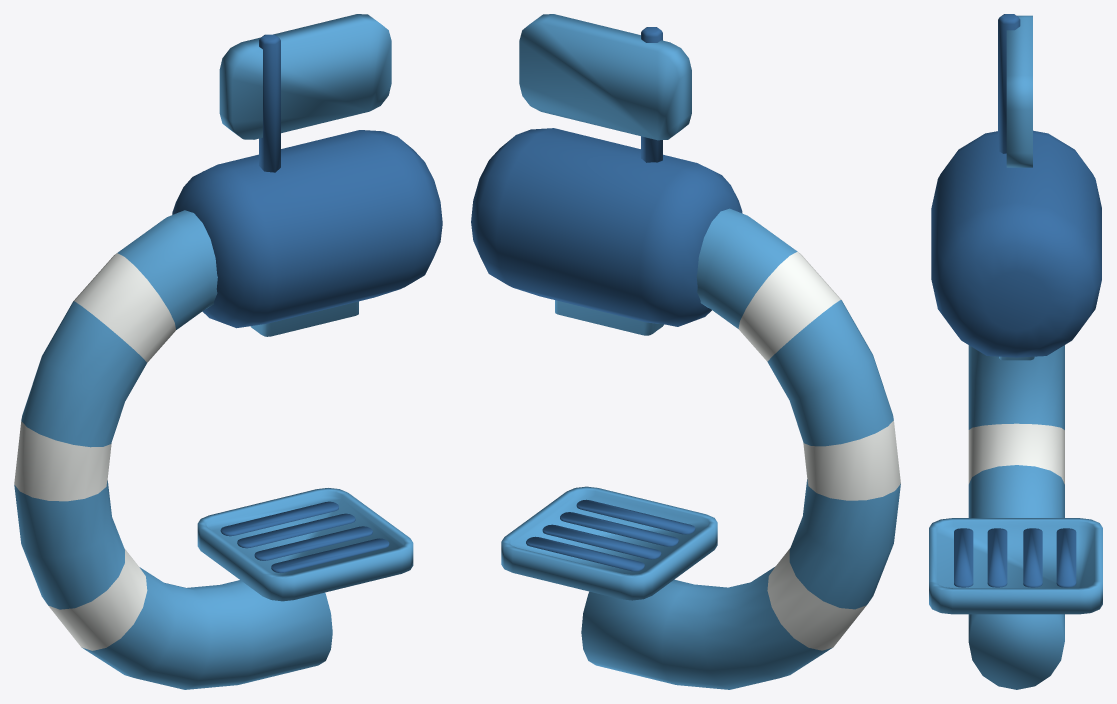
The model's file is Liquid food machine1.fbx.
3 renders of one model, left to right at view 1: azimuth 30°, elevation 25°; view 2: azimuth 150°, elevation 25°; view 3: azimuth 270°, elevation 25°, orthographic. The views are drawn at different scales.
Visible parts, largest first — view 1: Cylinder.018, Cylinder.019, Cube.046, Cube.053, Cylinder.021, Cube.056, Cube.054, Cube.055, Cube.057; view 2: Cylinder.018, Cylinder.019, Cube.046, Cube.053, Cube.056, Cube.054, Cube.057, Cube.055, Cylinder.021; view 3: Cylinder.019, Cylinder.018, Cube.053, Cube.046, Cylinder.021, Cube.055, Cube.057, Cube.056, Cube.054.
Part boxes in pixels (x1,y1,x2,y2): Cylinder.018: (14, 210, 332, 689); Cylinder.019: (172, 130, 442, 336); Cube.046: (219, 14, 391, 139); Cube.053: (197, 488, 413, 601); Cylinder.021: (259, 34, 280, 172); Cube.056: (271, 538, 389, 572); Cube.054: (237, 513, 355, 548); Cube.055: (254, 526, 372, 560); Cube.057: (220, 501, 338, 536); Cylinder.018: (581, 208, 900, 689); Cylinder.019: (471, 128, 742, 335); Cube.046: (519, 14, 691, 140); Cube.053: (501, 486, 717, 600); Cube.056: (576, 499, 695, 534); Cube.054: (542, 524, 661, 559); Cube.057: (526, 536, 644, 571); Cube.055: (560, 512, 678, 546); Cylinder.021: (641, 27, 662, 162); Cylinder.019: (931, 130, 1101, 360); Cylinder.018: (968, 345, 1064, 689); Cube.053: (929, 518, 1102, 614); Cube.046: (1006, 15, 1032, 167); Cylinder.021: (998, 14, 1020, 153); Cube.055: (987, 528, 1007, 587); Cube.057: (1056, 528, 1076, 587); Cube.056: (954, 528, 973, 587); Cube.054: (1023, 528, 1042, 587).
Size of the model in its own units: 126 by 193 by 46.56.
